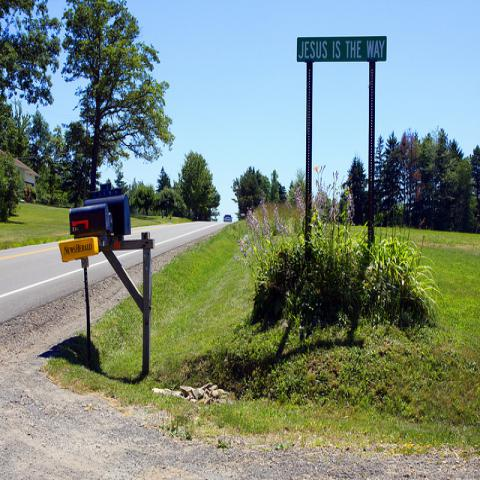car: (210, 210, 217, 223), (223, 214, 233, 222)
